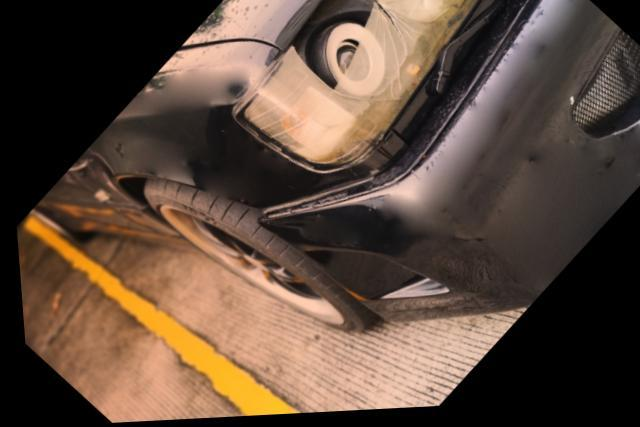lamp broken: (236, 0, 481, 172)
